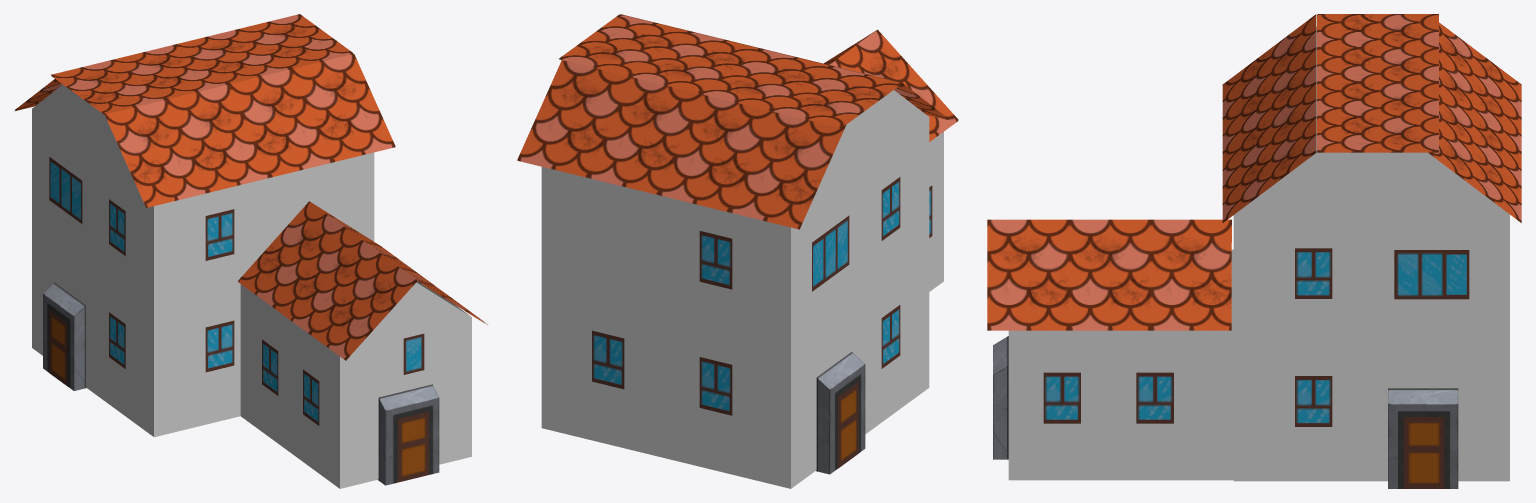
File: home6.fbx
3 renders of one model, left to right at view 1: azimuth 30°, elevation 25°; view 2: azimuth 150°, elevation 25°; view 3: azimuth 270°, elevation 25°, orthographic. The views are drawn at different scales.
Parts seen in each view (by area): view 1: Cube.064; view 2: Cube.064; view 3: Cube.064.
Part boxes in pixels (x1,y1,x2,y2): Cube.064: (15,14,487,488); Cube.064: (517,14,958,488); Cube.064: (987,14,1521,488).
Size of the model in its own units: 235 by 270 by 385.
